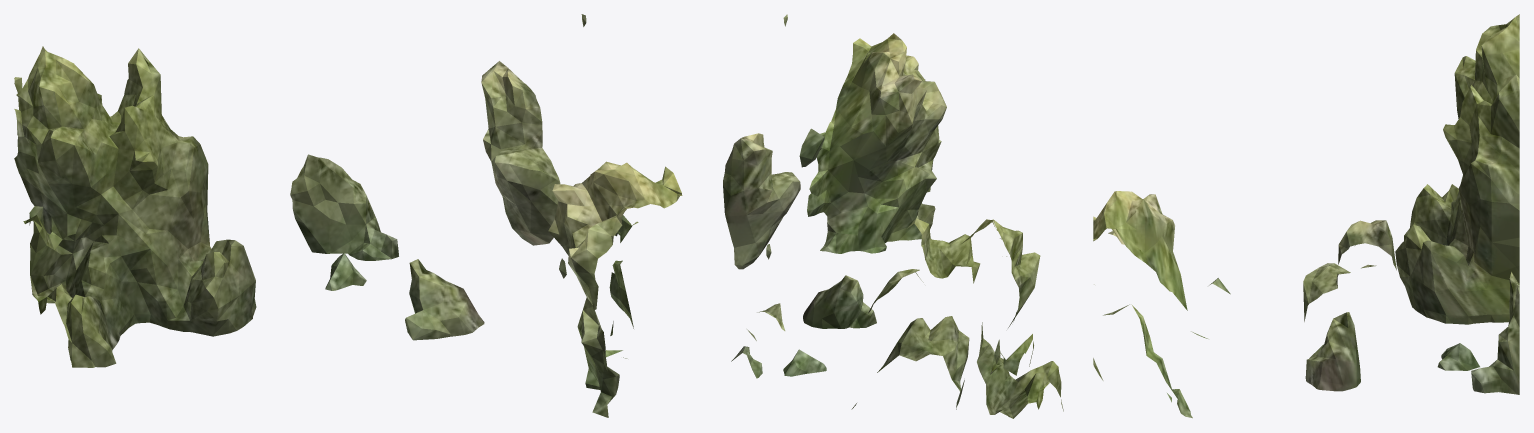
3 renders of one model, left to right at view 1: azimuth 30°, elevation 25°; view 2: azimuth 150°, elevation 25°; view 3: azimuth 270°, elevation 25°, orthographic. The views are drawn at different scales.
Size of the model in its own units: 11.8 by 8.36 by 11.8.
Materials: 2 (2 with a texture image).
